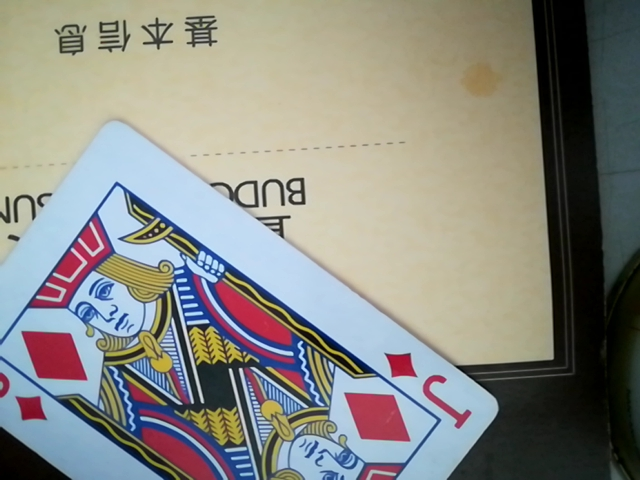fk j: (4, 120, 515, 478)
